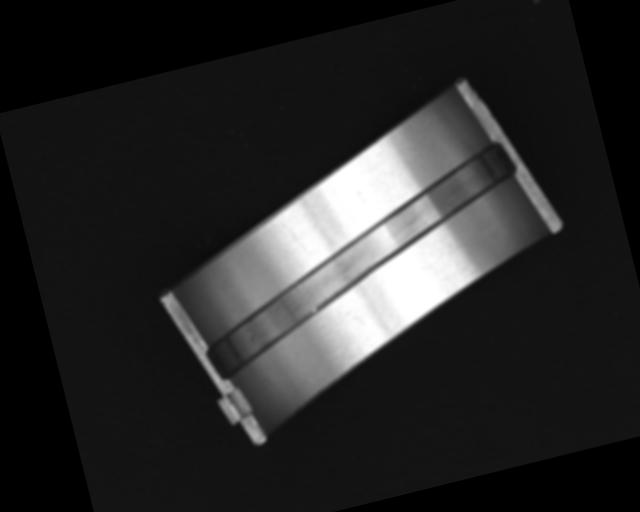gap: (173, 140, 549, 381)
nick: (280, 218, 306, 255)
